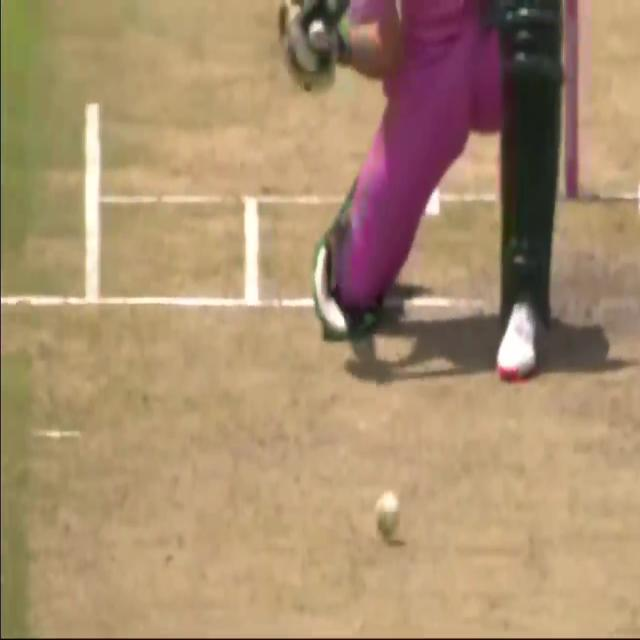Ball: (253, 0, 636, 414)
Batsman: (365, 477, 411, 552)
